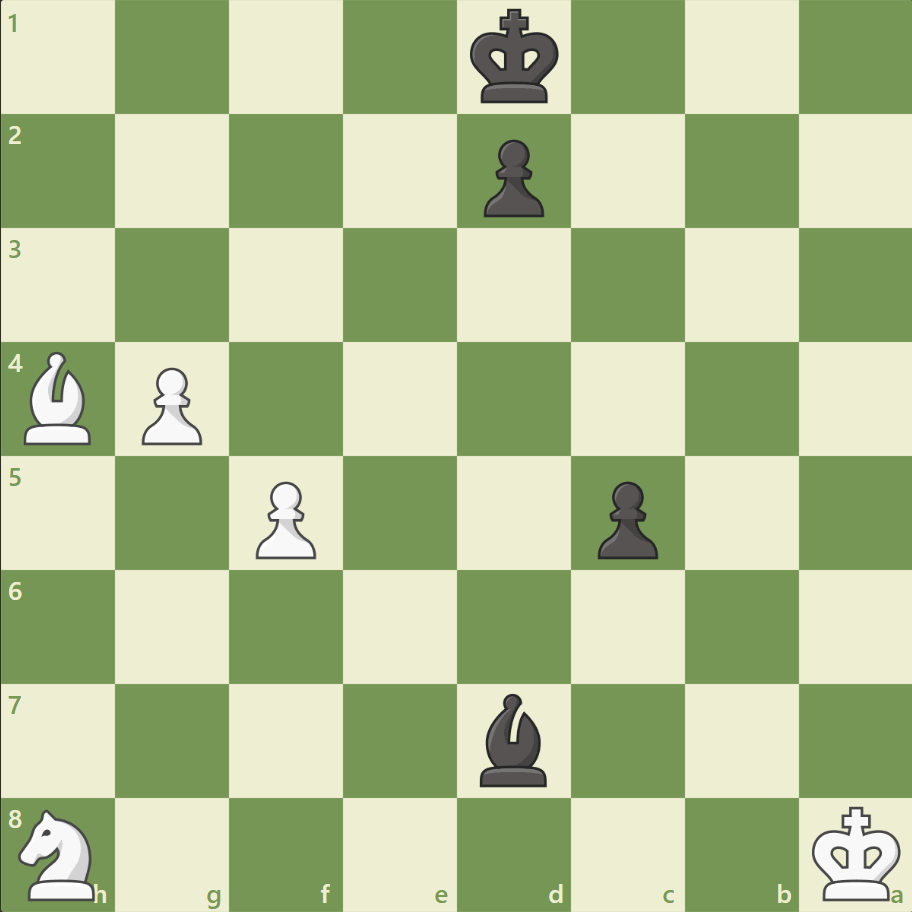B: (17, 347, 101, 449)
K: (806, 798, 906, 906)
N: (11, 802, 108, 904)
P: (247, 473, 322, 564), (133, 359, 208, 450)
b: (471, 687, 555, 790)
k: (465, 4, 565, 112)
p: (474, 132, 549, 223), (588, 473, 662, 564)
